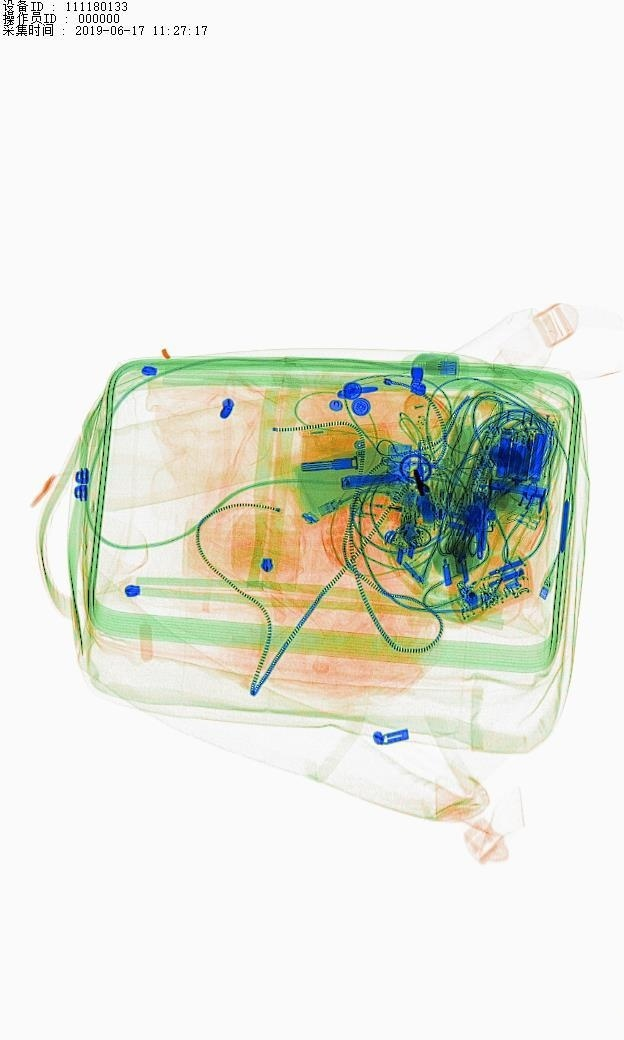NonmetallicFire: (343, 489, 433, 530)
